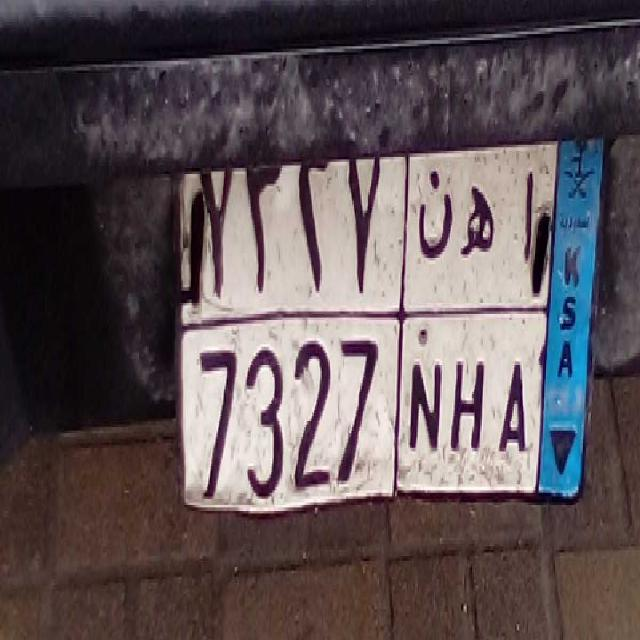license_plate: (187, 308, 534, 515)
